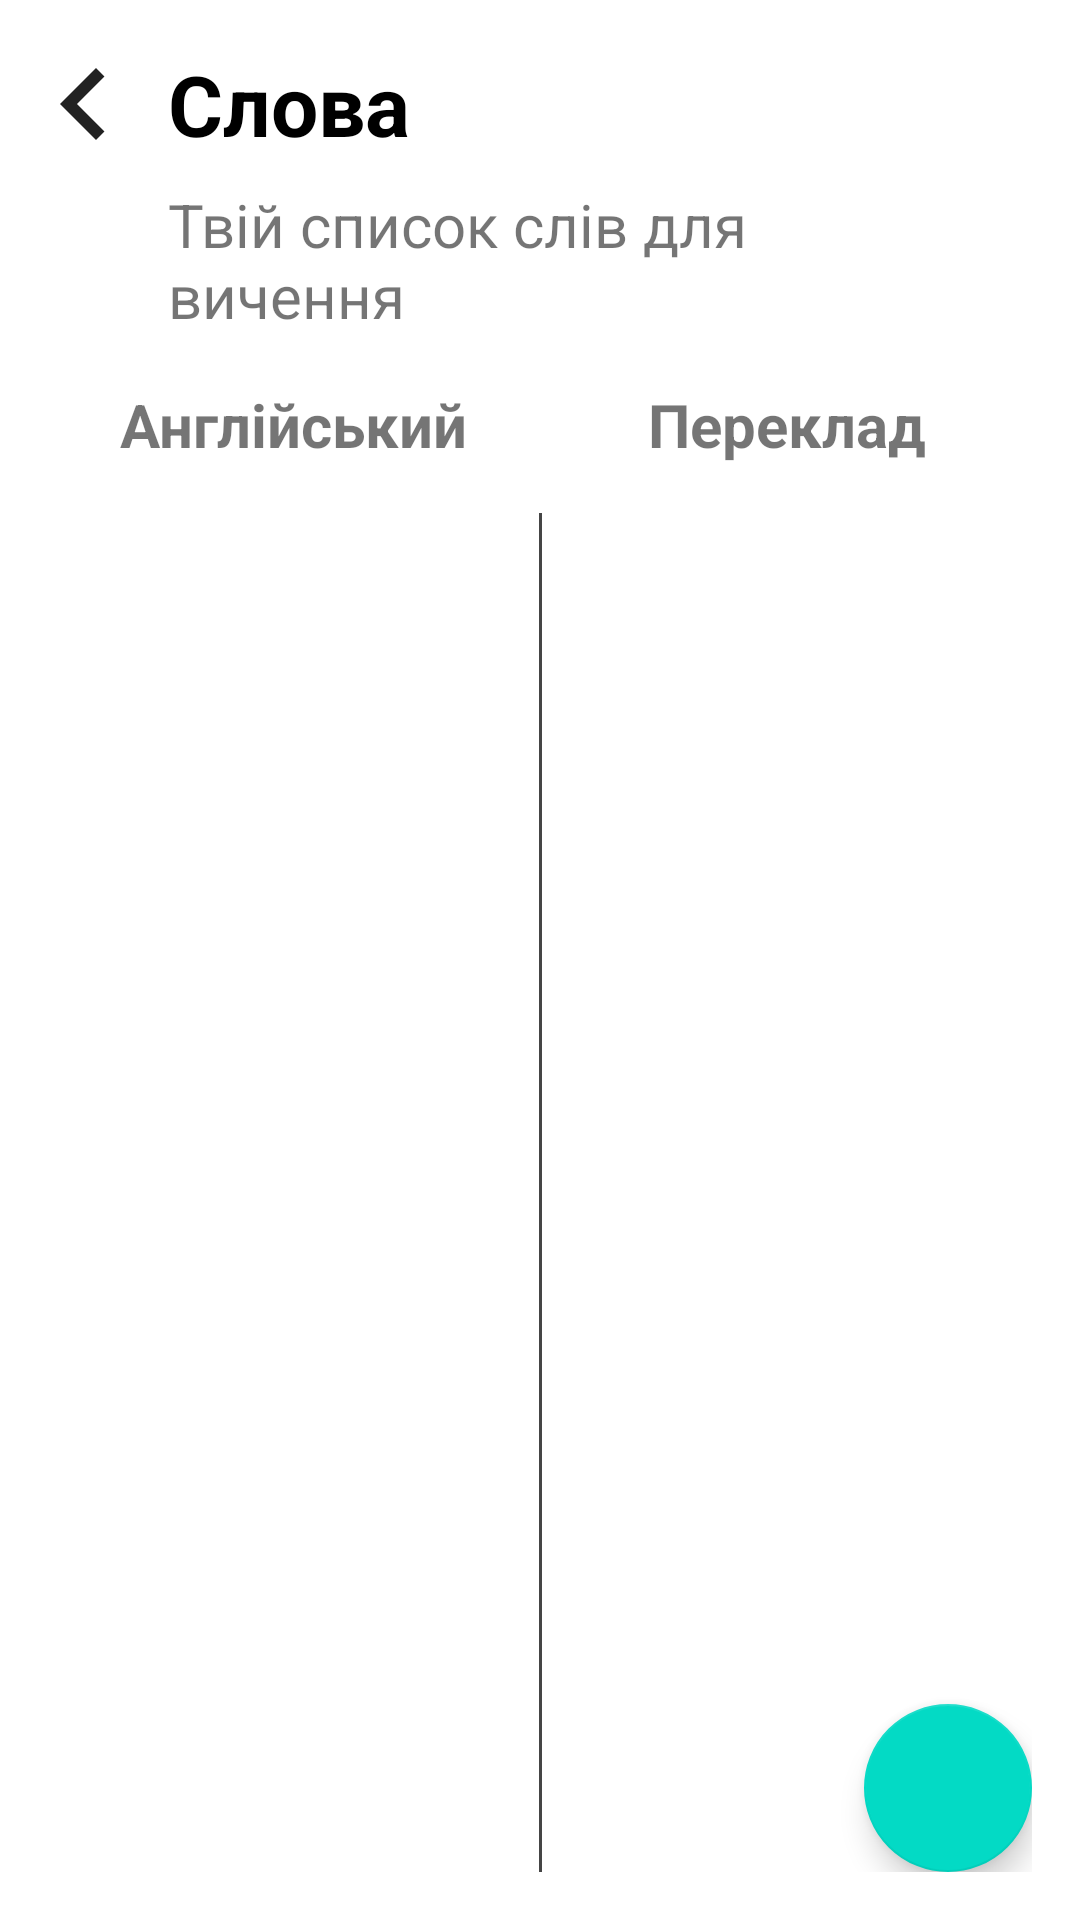

Icon click points for this 1080px x 1920px phone screenshot, format [x,y]:
back: [82,104]
